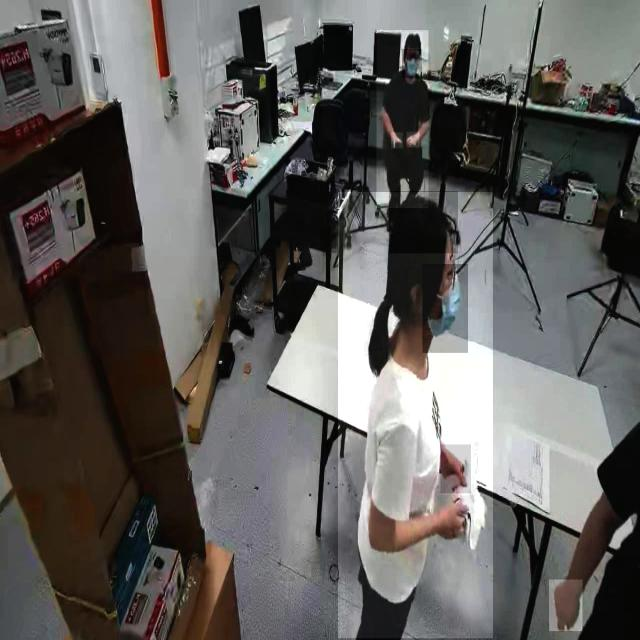face_mask: (422, 264, 468, 353), (402, 49, 422, 79)
hand_noglove: (548, 580, 582, 632), (436, 495, 474, 540), (440, 444, 471, 494), (406, 132, 420, 148), (391, 132, 403, 150)
head_nohelmet: (388, 191, 458, 254), (405, 32, 423, 48)
person: (337, 192, 493, 639), (376, 30, 428, 208)
